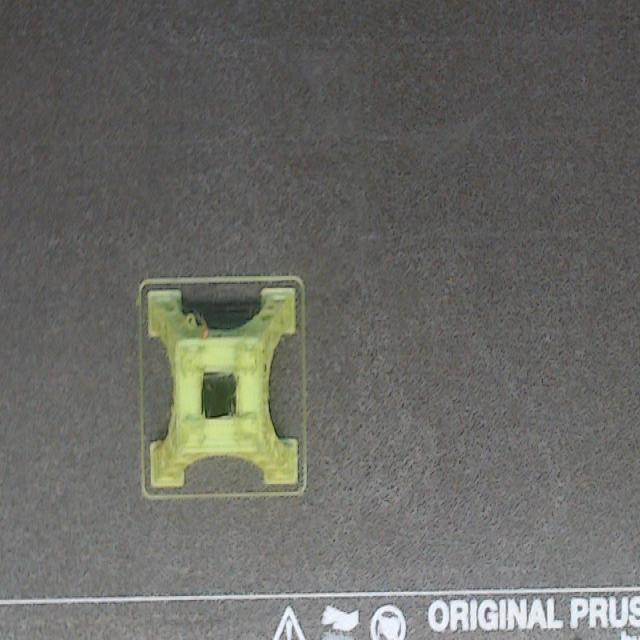mistake: (187, 312, 209, 336), (204, 376, 223, 391), (167, 401, 175, 431), (228, 391, 235, 413)
